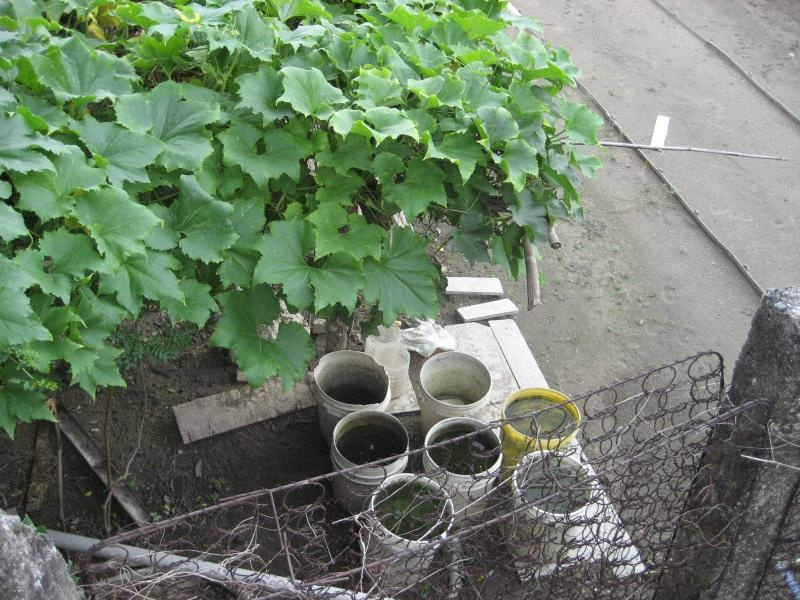bucket: (360, 470, 455, 590), (505, 449, 597, 564), (421, 416, 504, 525), (327, 408, 410, 513), (499, 385, 581, 491), (311, 349, 393, 446), (416, 350, 493, 441)
